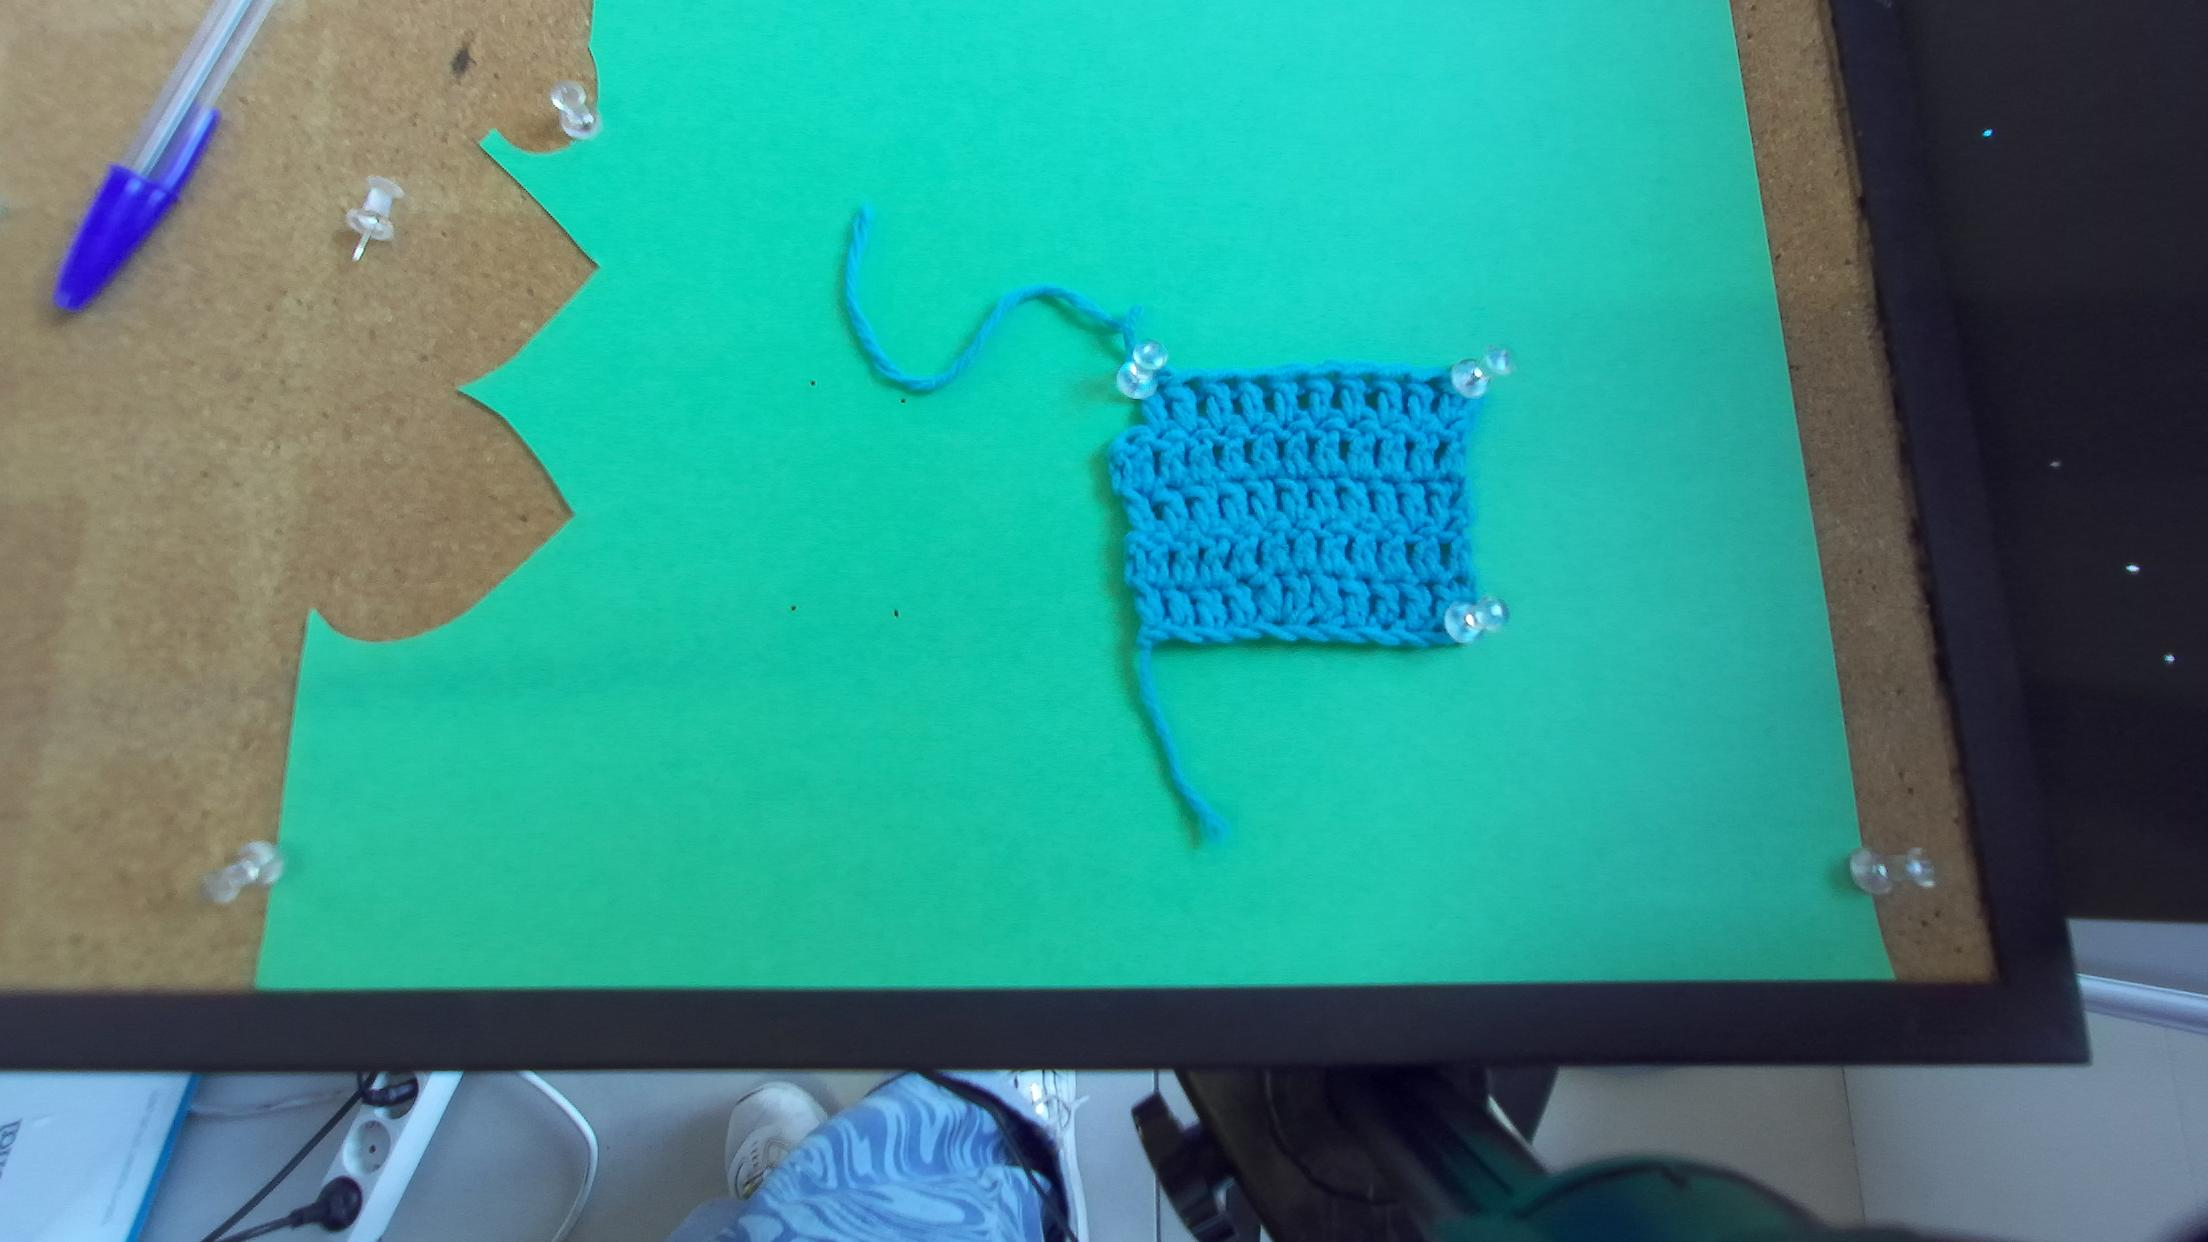hole: (1218, 376, 1239, 392), (1249, 375, 1270, 391), (1182, 377, 1202, 393), (1321, 371, 1339, 386), (1291, 371, 1308, 385), (1356, 372, 1375, 384), (1426, 376, 1441, 390), (1394, 374, 1410, 386), (1156, 380, 1170, 392)
swatch: (1114, 359, 1508, 654)
